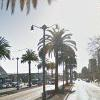Palm tree: (46, 19, 78, 84)
